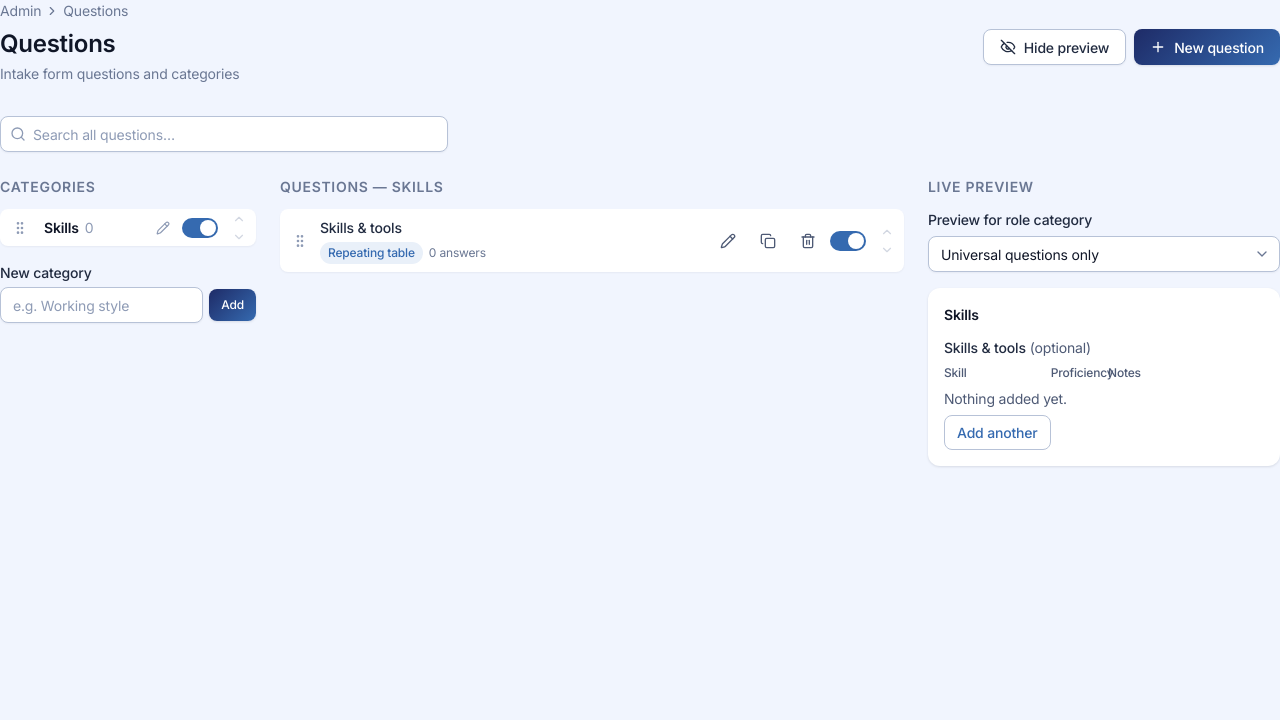
Scenario: a repeating group's columns are shown, never edited › summarises the stored columns and offers no editor for them
Click the button named "Edit Skills & tools" at (728, 240), box [710,222,746,258]
(page scrolled)
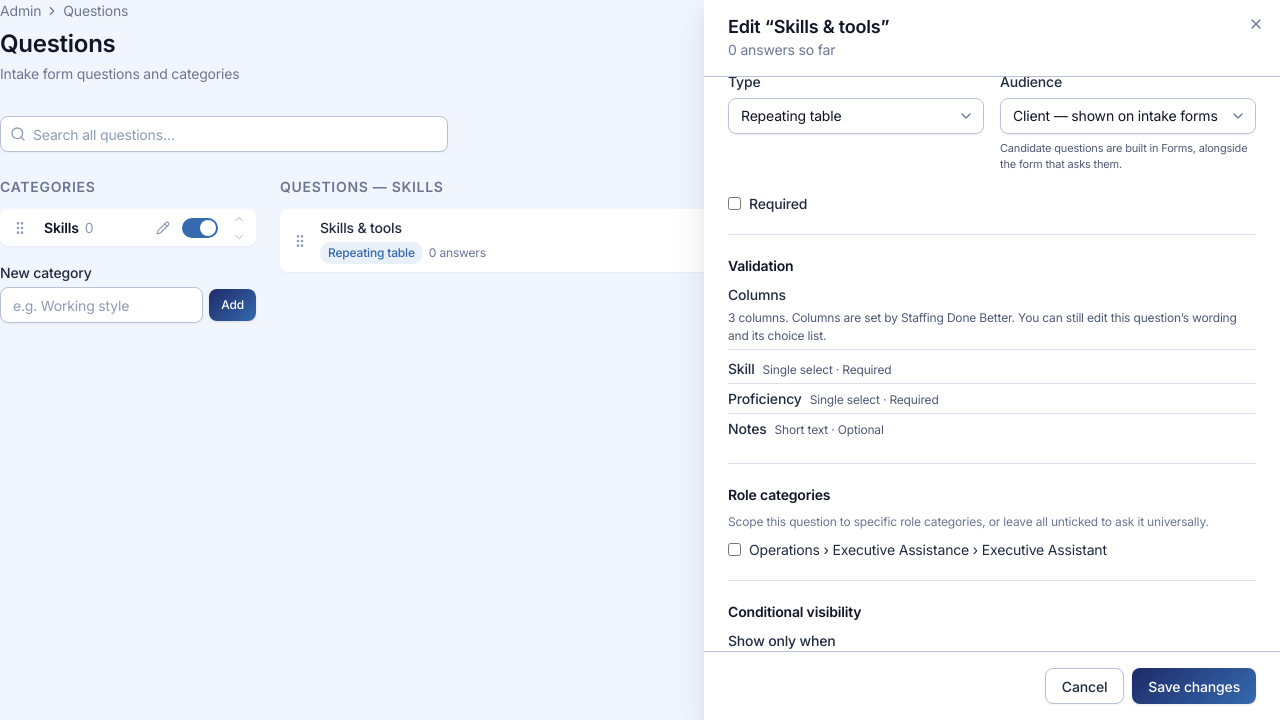
Check: the element "Columns" shows "3 columns", box [728,310,785,325]
Check: the element "Columns" shows "Skill", box [728,360,755,377]
Check: the element "Columns" shows "Proficiency", box [728,390,802,407]
